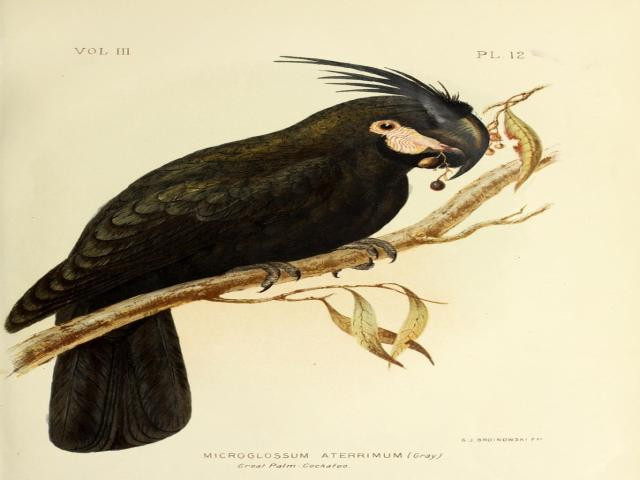Bird: (6, 49, 492, 456)
